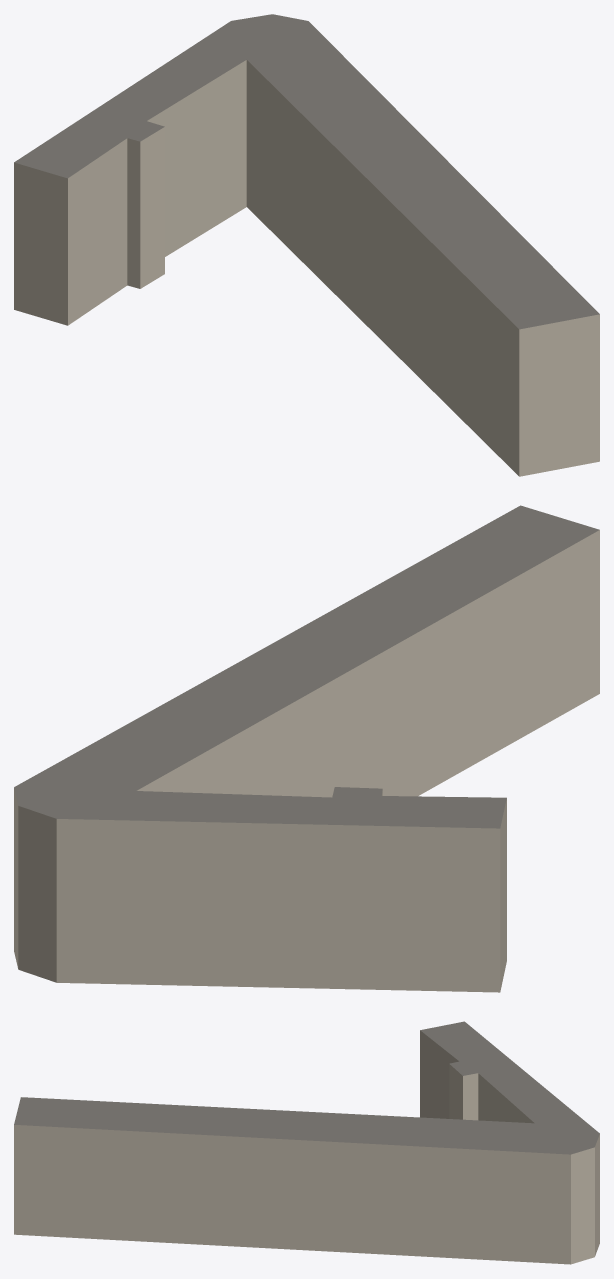
3 views of the same model, one above another, from view 1: azimuth 30°, elevation 25°; view 2: azimuth 150°, elevation 25°; view 3: azimuth 270°, elevation 25° (orthographic). The views are drawn at different scales.
Visible parts, largest first — view 1: HP-w494302962; view 2: HP-w494302962; view 3: HP-w494302962.
Part boxes in pixels (<box>): HP-w494302962: <box>14,14,599,476</box>; HP-w494302962: <box>14,505,599,992</box>; HP-w494302962: <box>14,1021,599,1264</box>.
Size of the model in its own units: 46.77 by 18 by 86.98.
